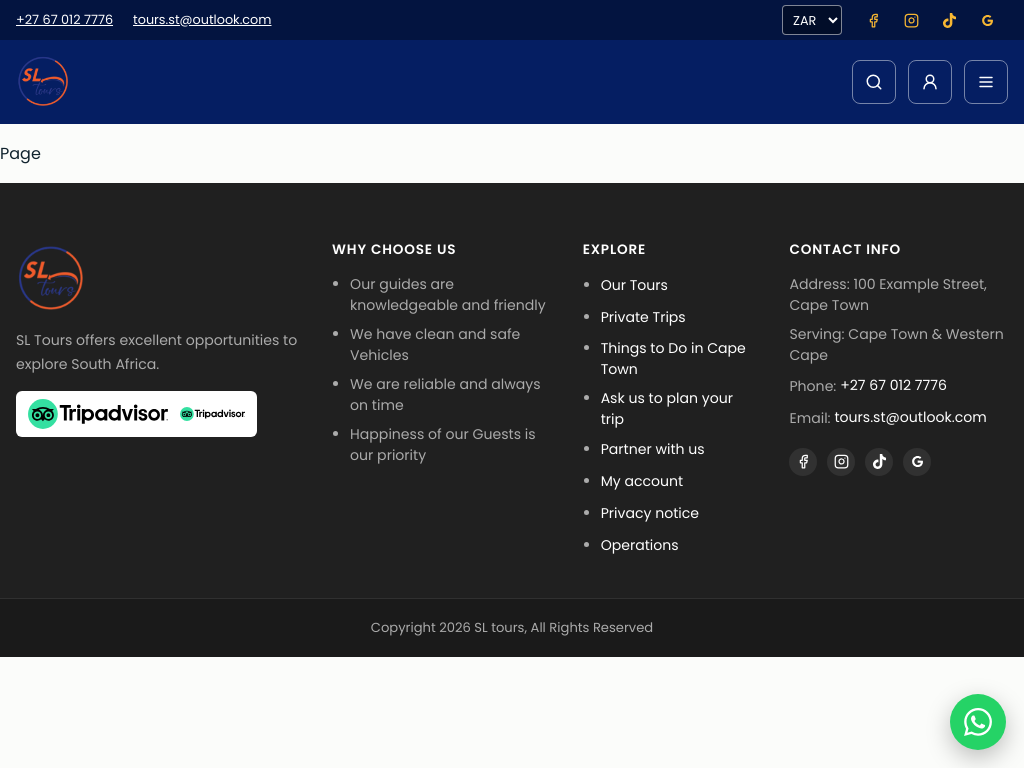
Test: site navigation › has an accessible mobile menu that traps focus, closes with Escape and returns focus
The image size is (1024, 768).
Click the button named "Open menu" at (986, 82), box [964,60,1008,104]
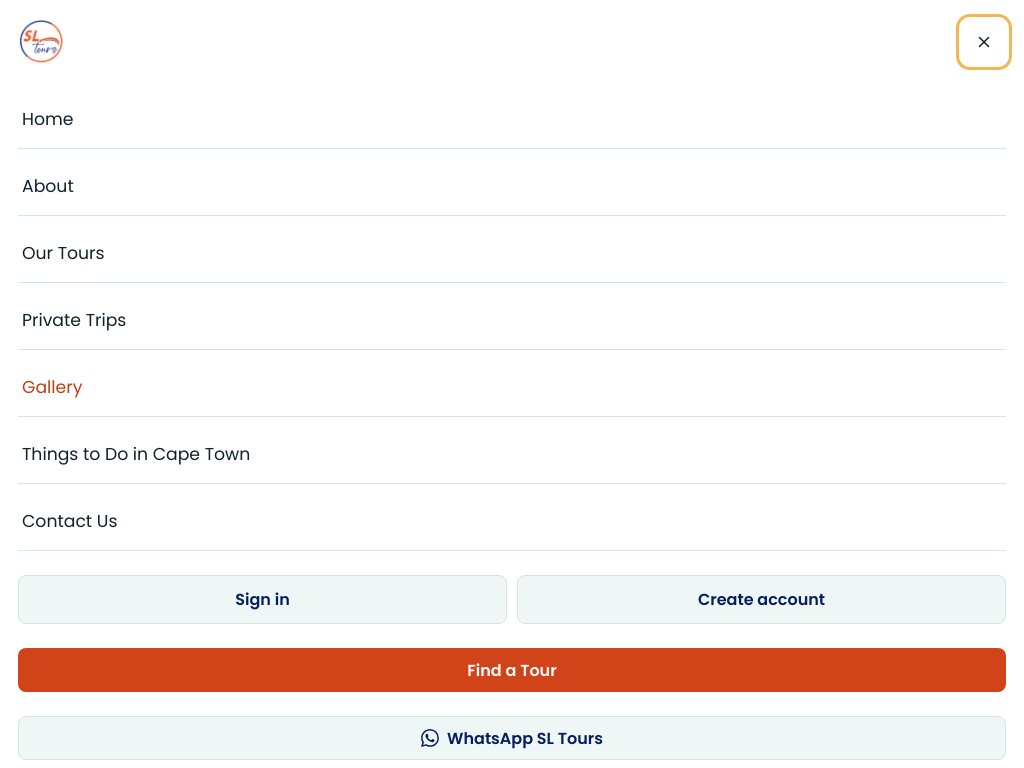
Press Shift+Tab
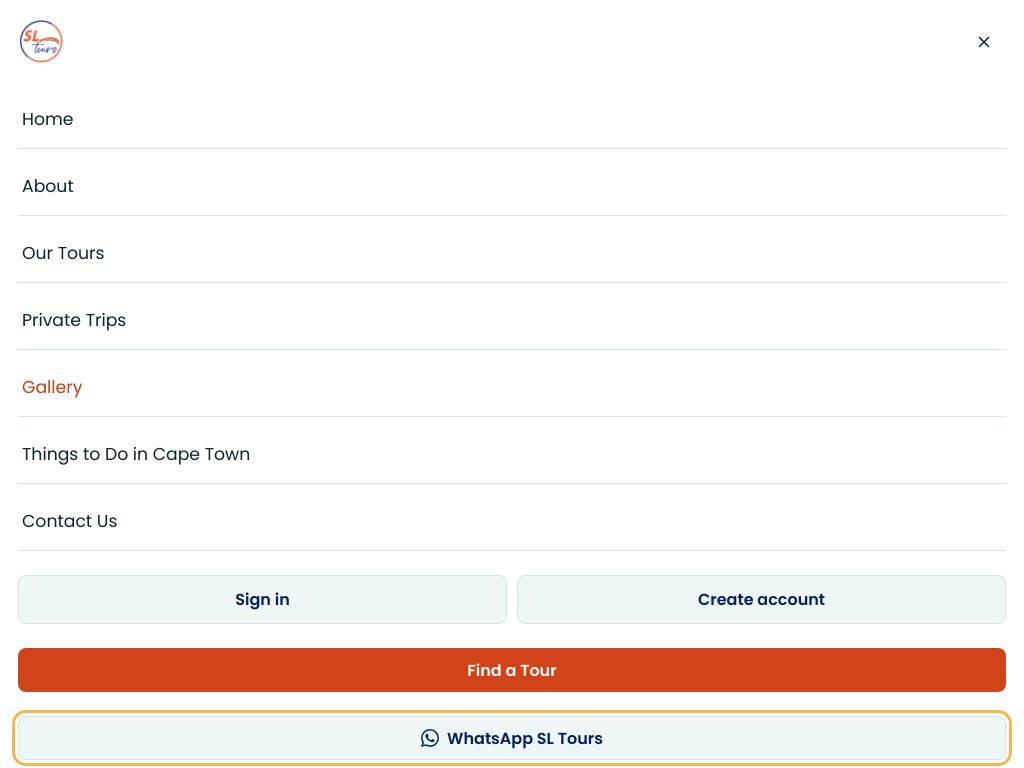
Press Escape
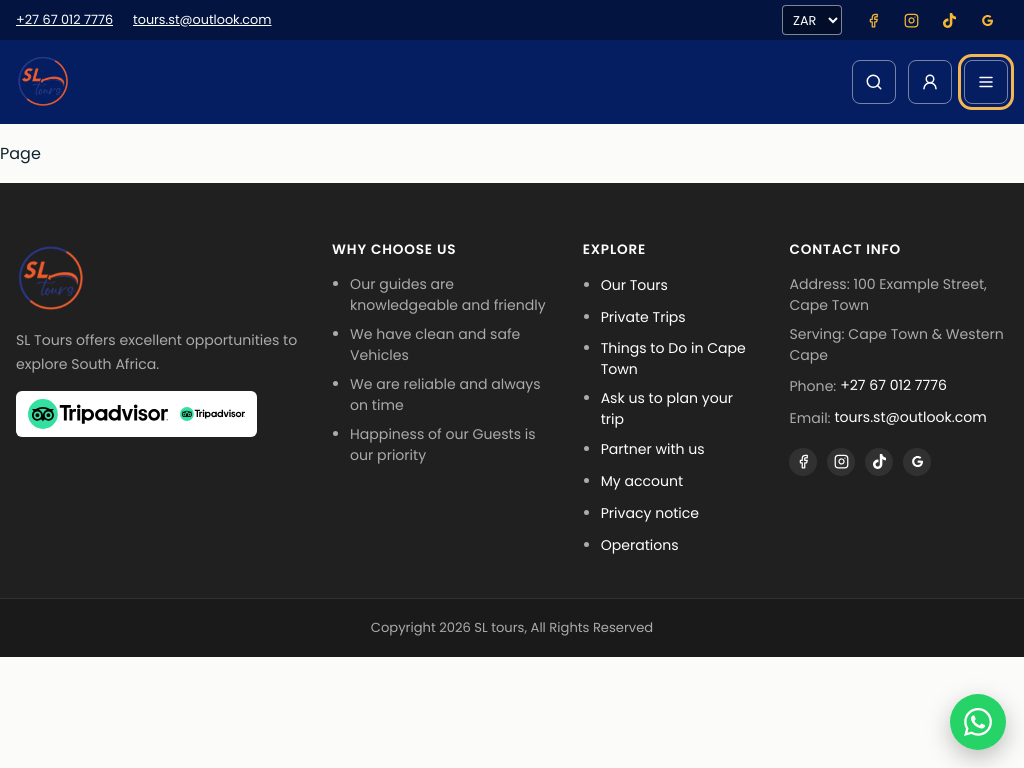
Now the dialog is gone
